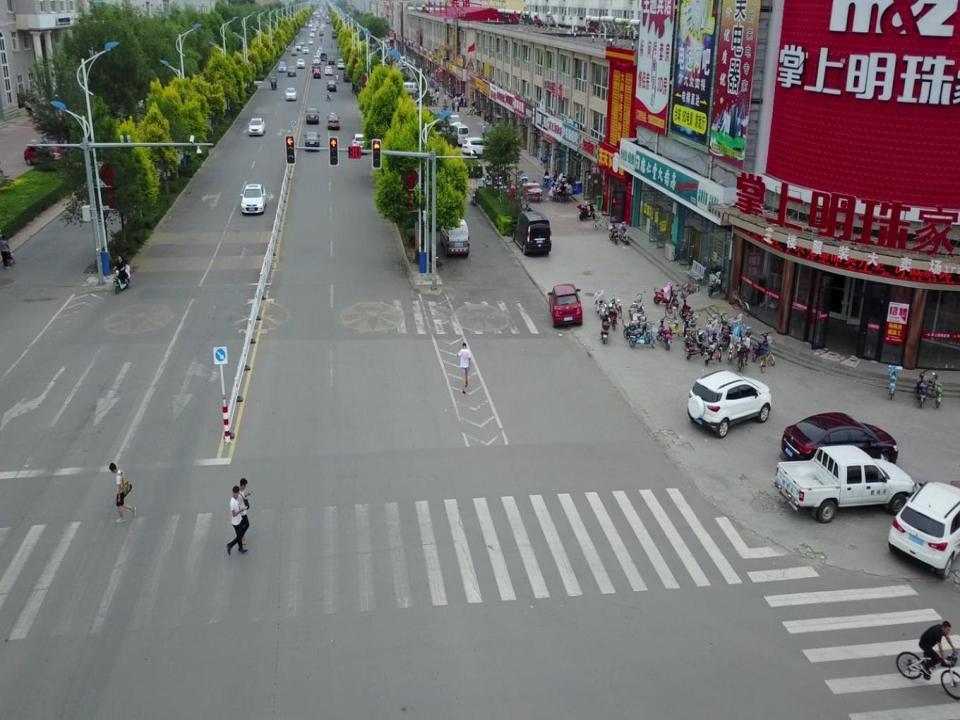car: (771, 445, 914, 523), (780, 411, 899, 471), (888, 478, 959, 576), (687, 370, 771, 438), (548, 284, 582, 328), (23, 138, 69, 168), (241, 184, 266, 214), (463, 138, 492, 158), (248, 116, 265, 136), (303, 132, 320, 152), (352, 133, 368, 154), (446, 113, 462, 131), (326, 112, 340, 130), (304, 109, 320, 124), (285, 88, 297, 100), (343, 69, 352, 82), (286, 65, 296, 76), (296, 58, 306, 69), (327, 80, 336, 92), (337, 57, 345, 69), (278, 61, 286, 72), (312, 62, 320, 73), (324, 65, 332, 75), (312, 55, 320, 64), (302, 46, 309, 54), (315, 49, 322, 57), (328, 56, 335, 64), (314, 69, 320, 78), (291, 48, 297, 56), (295, 43, 301, 51), (321, 52, 327, 60), (318, 45, 323, 53), (308, 39, 313, 45), (300, 40, 304, 46)
van: (514, 212, 551, 257), (440, 216, 469, 255), (452, 123, 468, 146), (384, 56, 406, 72), (401, 81, 422, 95)
